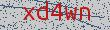4: (51, 1, 65, 28)
d: (35, 1, 50, 27)
n: (77, 2, 95, 28)
w: (64, 4, 78, 27)
x: (19, 2, 37, 27)
